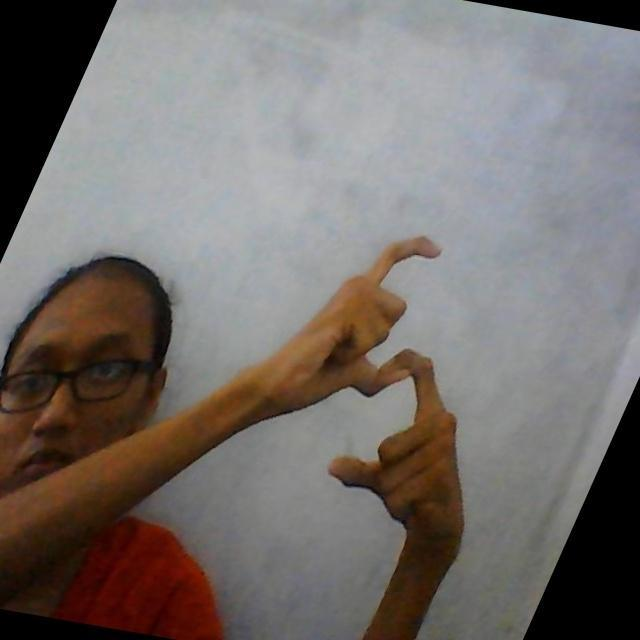S: (323, 218, 454, 505)
